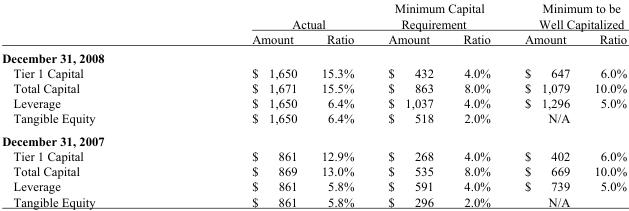table: (1, 1, 626, 208)
table column: (1, 1, 177, 208), (177, 1, 308, 208), (370, 1, 447, 208), (506, 1, 581, 208), (308, 1, 370, 208), (447, 1, 506, 208), (581, 1, 626, 208)
table column header: (1, 1, 626, 64)
table projected row header: (1, 129, 626, 148)
table row: (1, 30, 626, 64), (1, 1, 626, 30), (1, 110, 626, 129), (1, 129, 626, 148), (1, 64, 626, 80), (1, 80, 626, 95), (1, 95, 626, 110), (1, 148, 626, 163), (1, 163, 626, 178), (1, 178, 626, 193), (1, 193, 626, 208)
table spanning cell: (1, 1, 177, 64), (177, 1, 370, 30), (370, 1, 506, 30), (506, 1, 626, 30)
